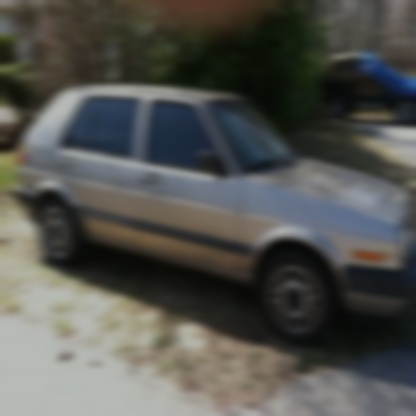Vehicle: (13, 85, 415, 344)
